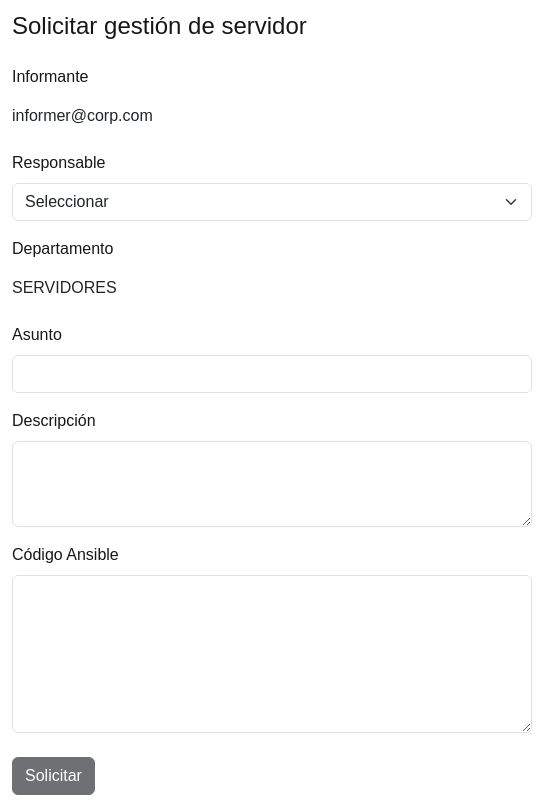
ServerManagementTicketForm › disables the submit button until the form is valid
Expected: the button "Solicitar" is disabled, [12,757,95,795]
Select "Ana" in the dropdown labelled "Responsable": (272,202) [12,183,532,221]
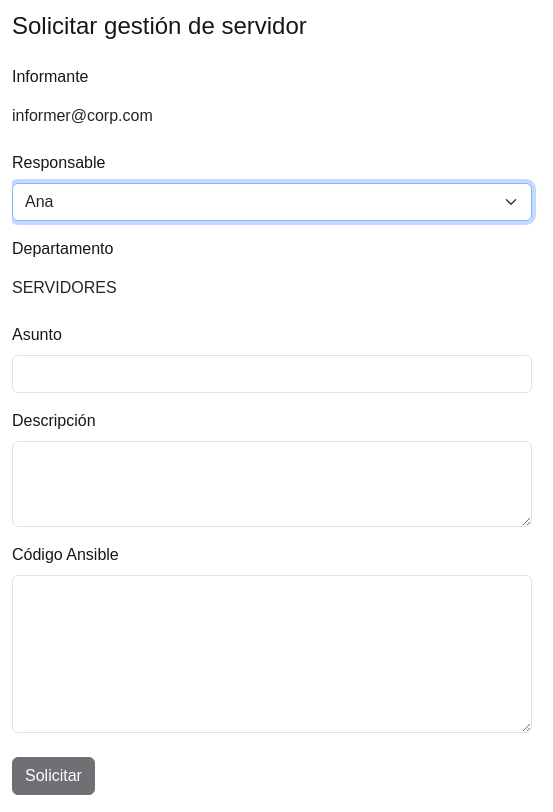
In the field labelled "Asunto": (272,374) [12,355,532,393], type "Add index"
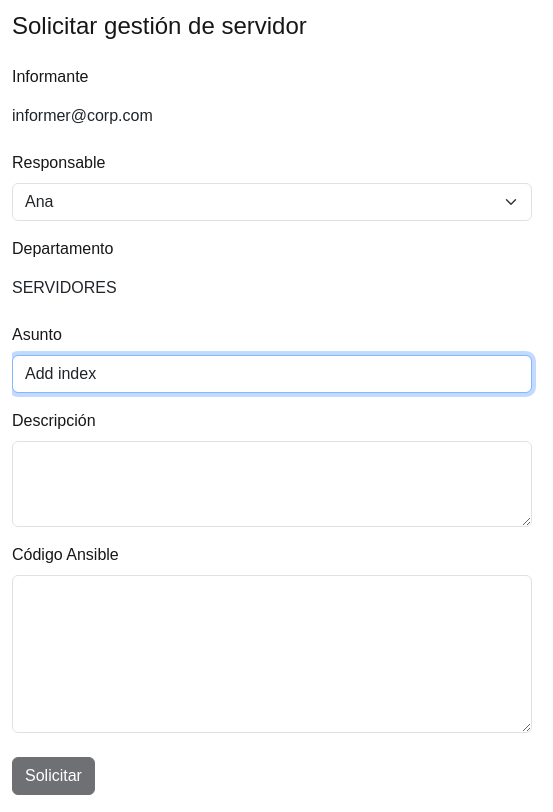
In the text box labelled "Descripción": (272,484) [12,441,532,527], type "Needs an index"
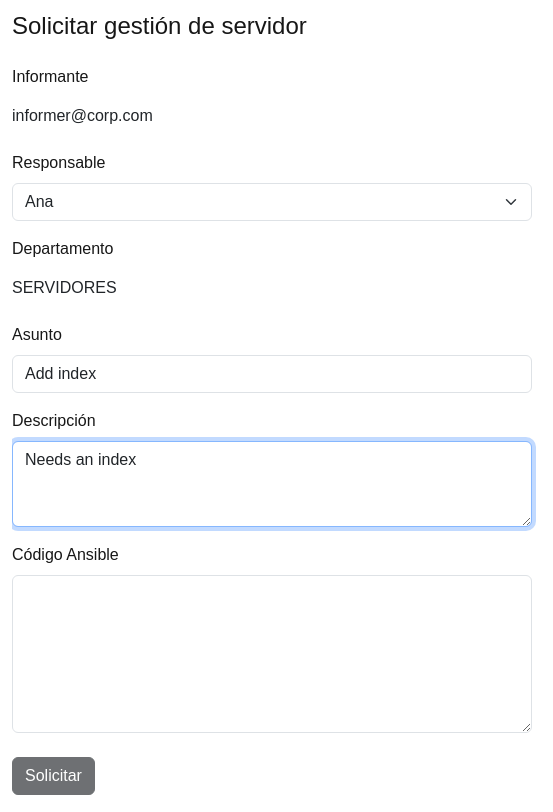
In the text box labelled "Código Ansible": (272,654) [12,575,532,733], type "- hosts: all"
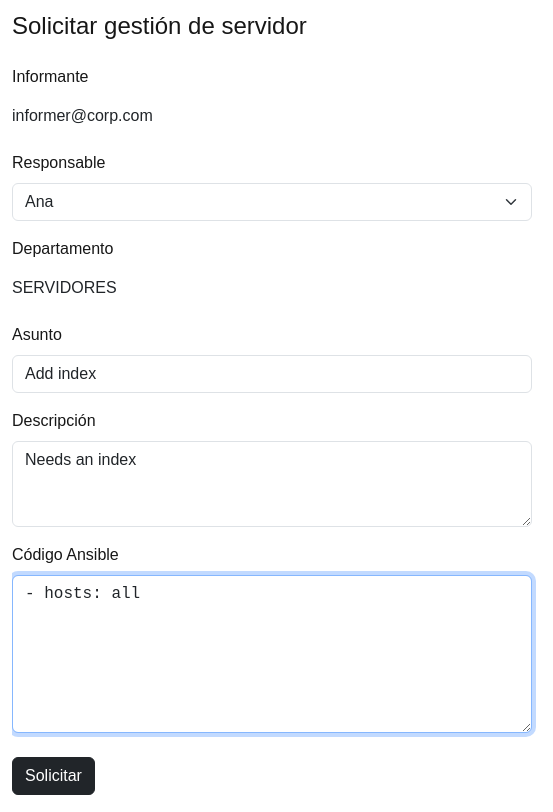
Now the button "Solicitar" is enabled, box [12,757,95,795]
